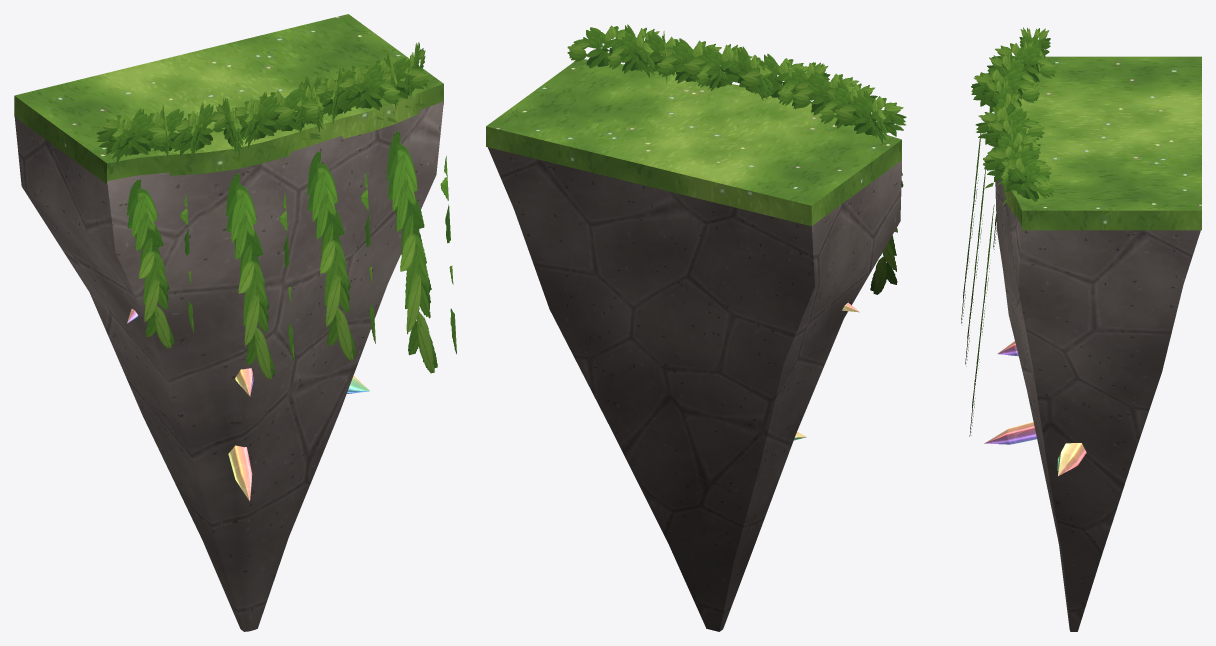
Rendered from bifrost_island_edge.glb.
3 renders of one model, left to right at view 1: azimuth 30°, elevation 25°; view 2: azimuth 150°, elevation 25°; view 3: azimuth 270°, elevation 25°, orthographic. The views are drawn at different scales.
Parts seen in each view (by area): view 1: bifrost_island_edge; view 2: bifrost_island_edge; view 3: bifrost_island_edge.
Part boxes in pixels (<box>): bifrost_island_edge: <box>14,14,456,631</box>; bifrost_island_edge: <box>486,24,906,631</box>; bifrost_island_edge: <box>961,27,1201,631</box>.
Bounding box in the file's own units: 2.08 × 3.25 × 1.32.
Materials: 4 (4 with a texture image).
